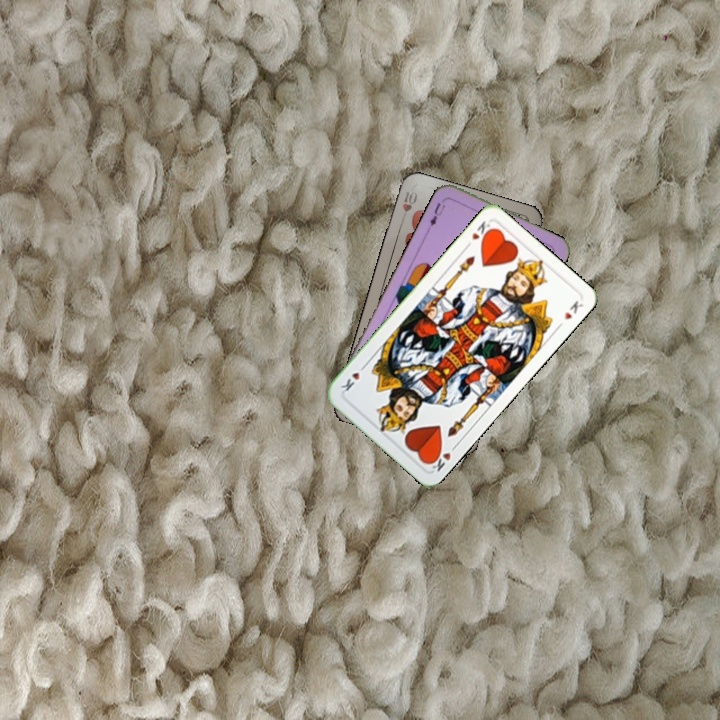EU: (426, 198, 448, 229)
H10: (397, 187, 420, 225)
HK: (461, 217, 495, 251), (425, 445, 453, 474)
